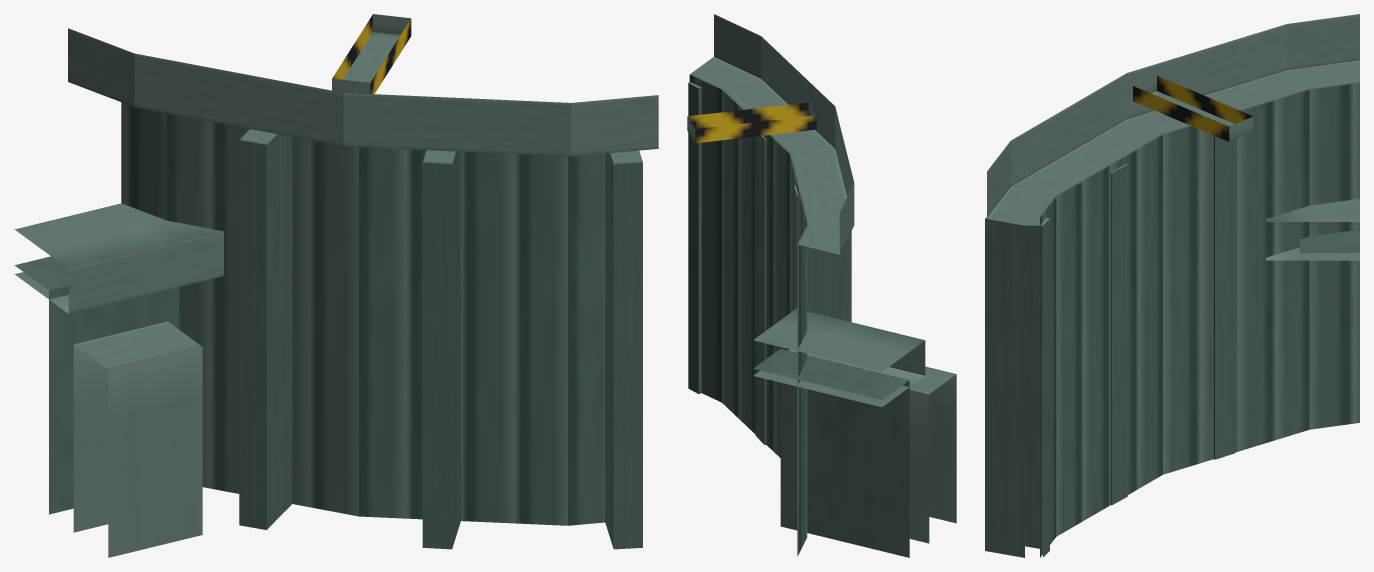
File: cell_216.obj
The picture shows the model from 3 angles, left to right: view 1: azimuth 30°, elevation 25°; view 2: azimuth 150°, elevation 25°; view 3: azimuth 270°, elevation 25°; orthographic projection. The views are drawn at different scales.
Size of the model in its own units: 1 by 1 by 0.8788.
